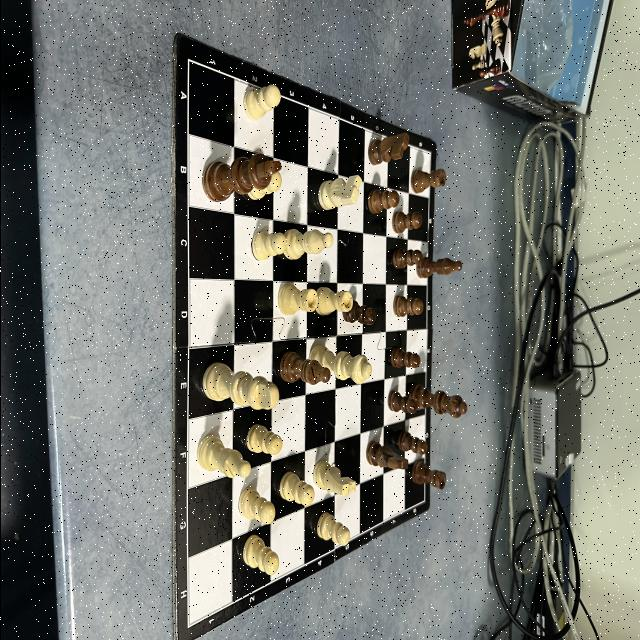Black-Bishop: (278, 352, 330, 386), (415, 256, 461, 278)
Black-King: (201, 152, 281, 202)
Black-Knight: (367, 132, 409, 166), (365, 440, 407, 470)
Black-Pawn: (341, 300, 375, 326), (366, 189, 399, 215), (396, 430, 426, 456), (386, 390, 416, 414), (391, 211, 421, 234), (392, 296, 422, 318), (392, 248, 422, 270), (390, 348, 420, 368)
Black-Queen: (408, 384, 467, 419)
Black-Rook: (410, 459, 446, 492), (410, 168, 446, 194)
White-Bishop: (196, 436, 250, 480)
White-King: (200, 362, 278, 411)
White-Knight: (316, 175, 362, 211), (282, 228, 332, 260), (312, 460, 355, 497)
White-Pawn: (242, 534, 278, 576), (237, 487, 275, 525), (242, 84, 280, 122), (278, 471, 314, 506), (245, 424, 282, 456), (316, 512, 350, 546), (251, 231, 286, 261), (247, 172, 280, 200)
White-Queen: (308, 344, 372, 384)
White-Rook: (276, 284, 318, 316), (314, 287, 352, 316)
